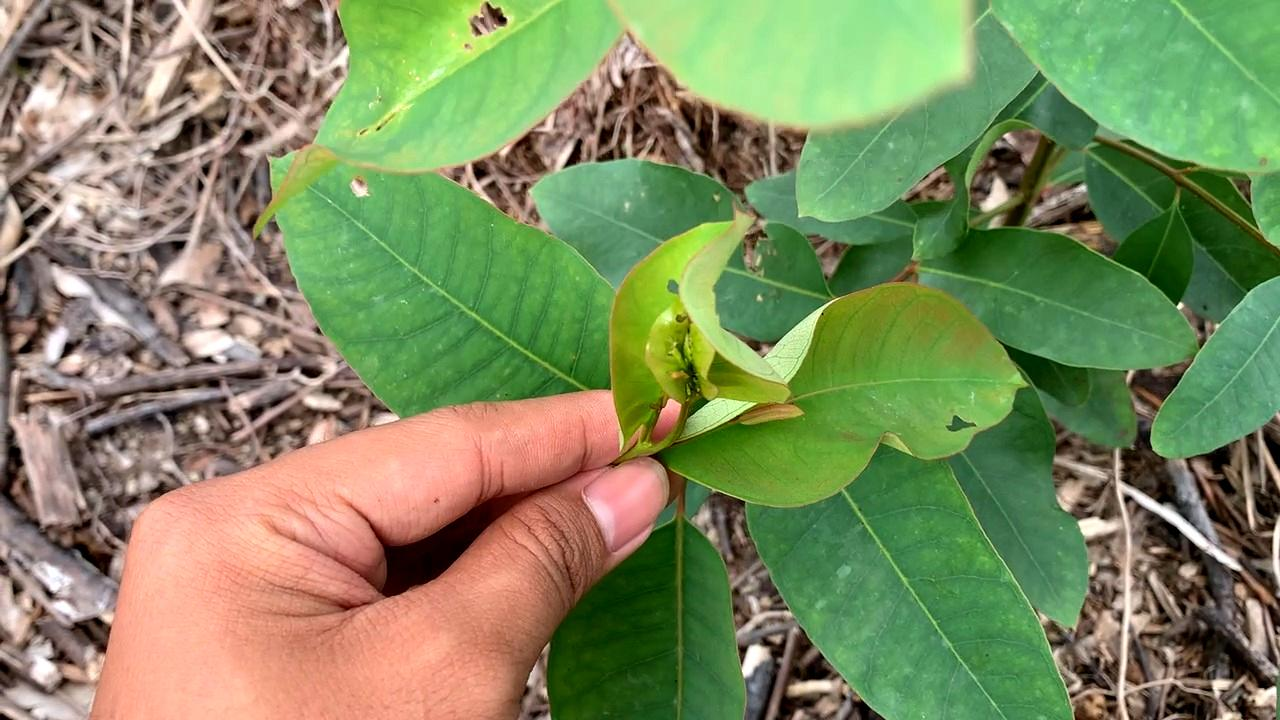Leaf Roller - Leaf: (595, 219, 805, 450)
